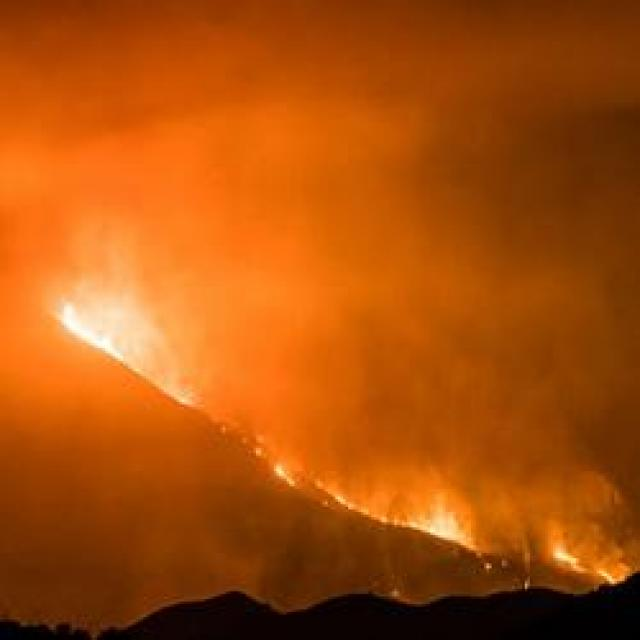fire: (401, 498, 492, 554), (550, 529, 622, 587), (195, 411, 200, 412)
